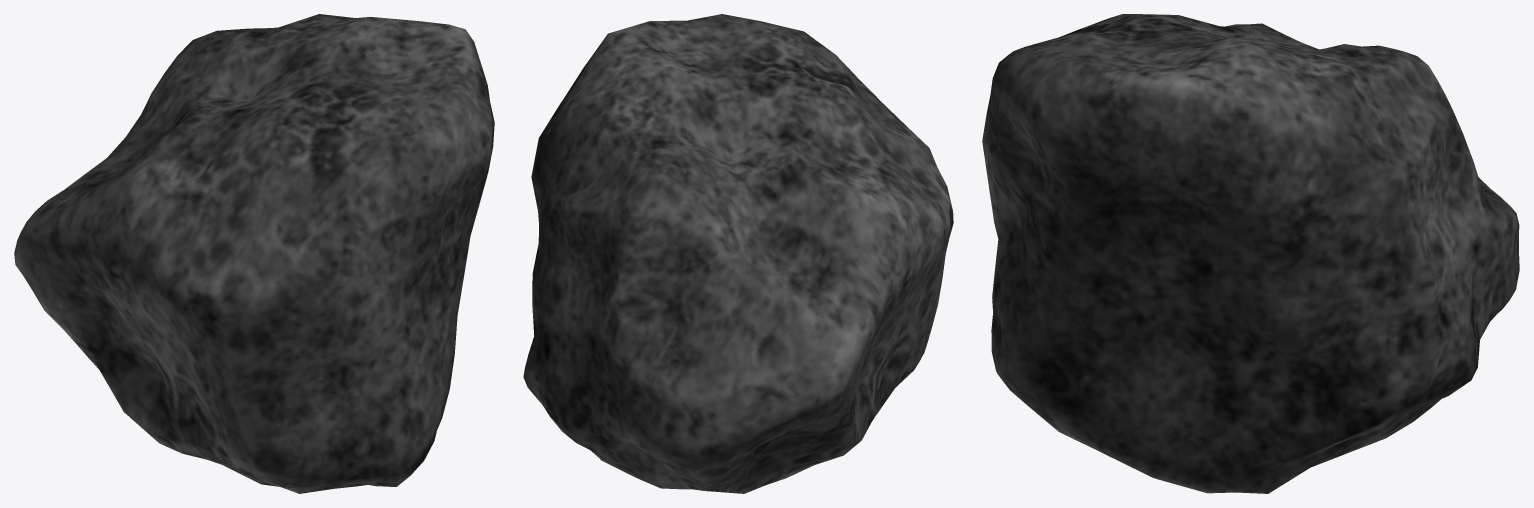
3 views of the same model, side by side, from view 1: azimuth 30°, elevation 25°; view 2: azimuth 150°, elevation 25°; view 3: azimuth 270°, elevation 25° (orthographic). The views are drawn at different scales.
Parts seen in each view (by area): view 1: Asteroid_no_5_Material #3_0; view 2: Asteroid_no_5_Material #3_0; view 3: Asteroid_no_5_Material #3_0.
Boxes of the visible parts, box(x1,y1,x2,y2) form: Asteroid_no_5_Material #3_0: box(14, 14, 494, 493); Asteroid_no_5_Material #3_0: box(523, 14, 953, 493); Asteroid_no_5_Material #3_0: box(982, 14, 1519, 493).
Bounding box in the file's own units: 5.63 × 5.95 × 6.4.
Materials: 1 (1 with a texture image).
